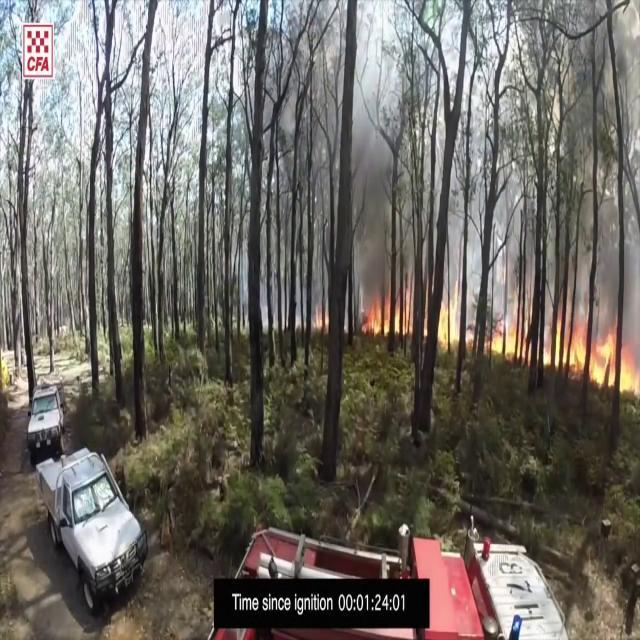Fire: (570, 320, 640, 401)
